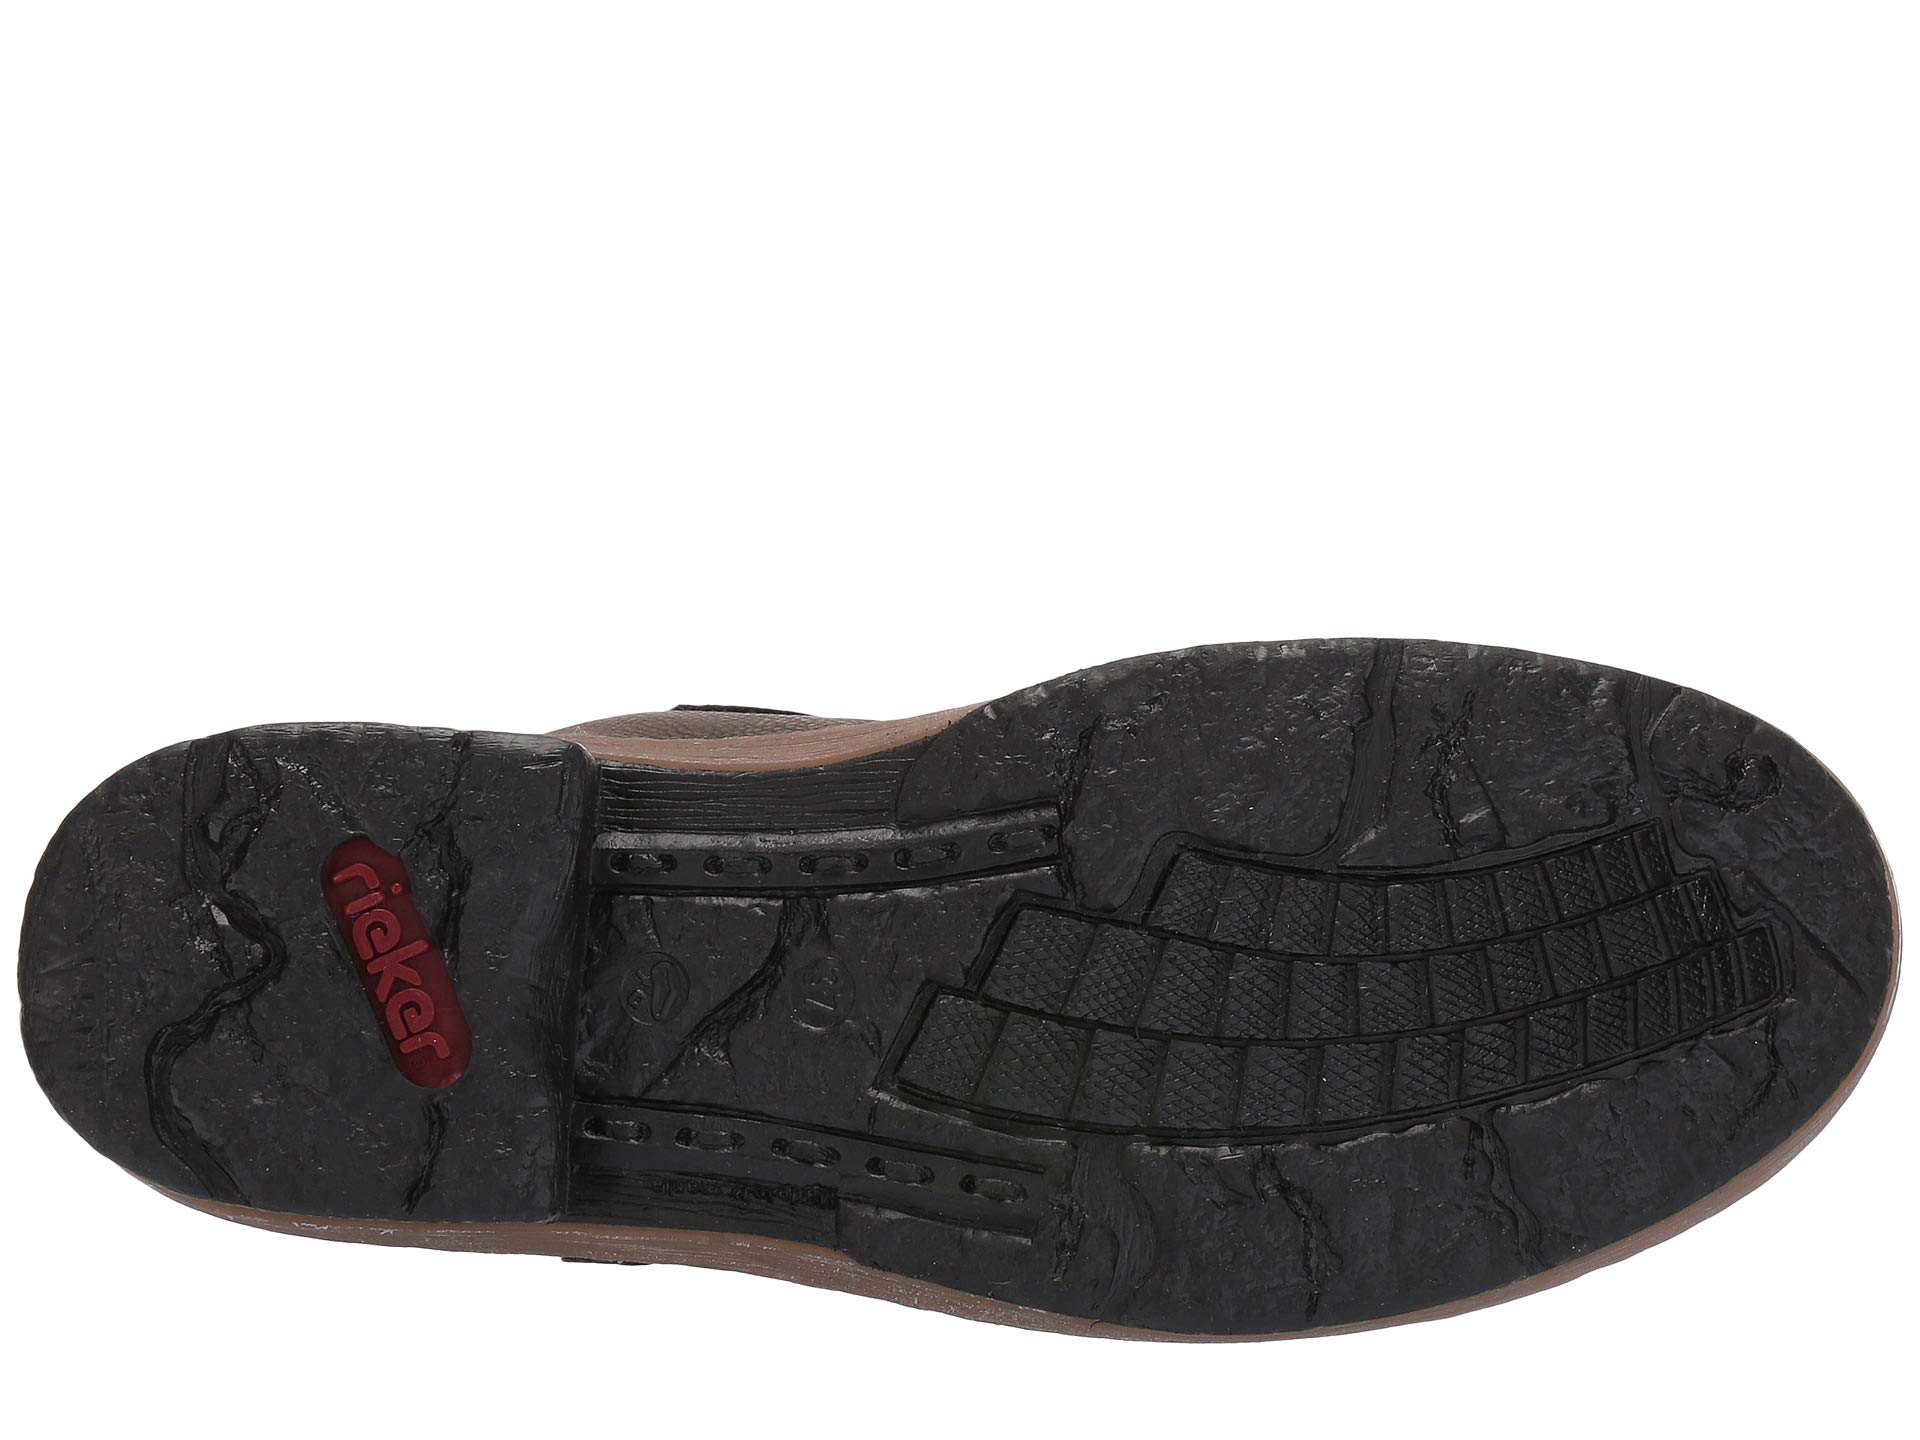quad: (962, 882, 1315, 1206), (1362, 865, 1658, 1147)
text: (231, 818, 549, 1154)
